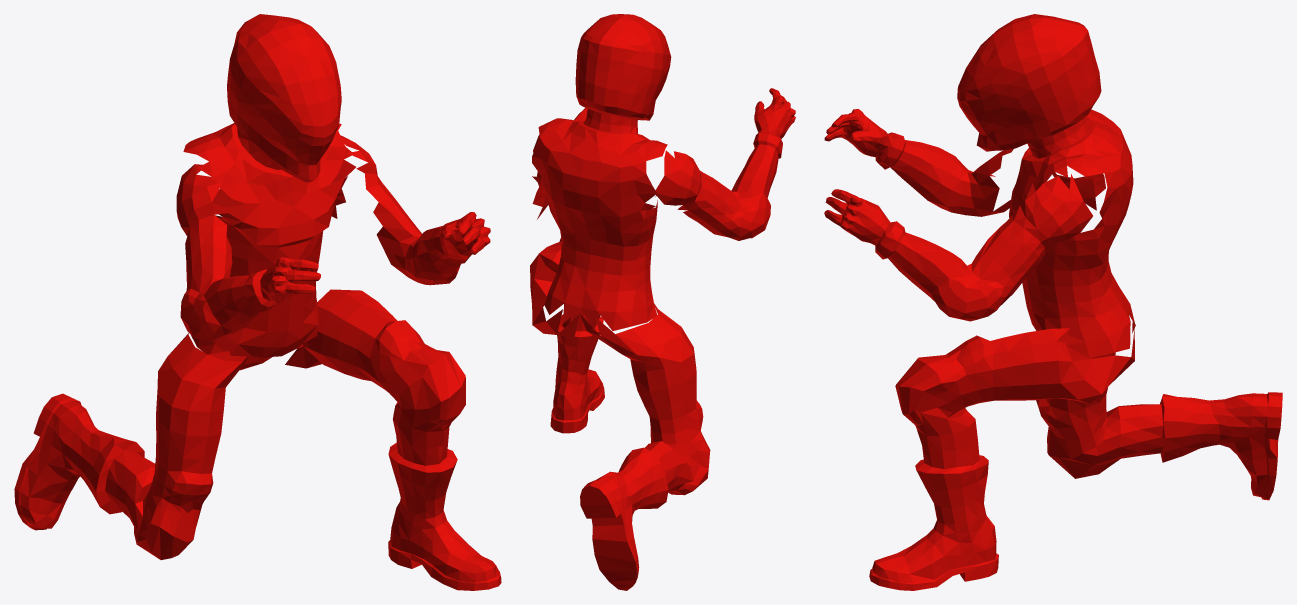
Rendered from kneel.glb.
3 renders of one model, left to right at view 1: azimuth 30°, elevation 25°; view 2: azimuth 150°, elevation 25°; view 3: azimuth 270°, elevation 25°, orthographic. The views are drawn at different scales.
Parts seen in each view (by area): view 1: body, arm_r, fore_r, fore_l, arm_l; view 2: body, arm_r, fore_r; view 3: body, arm_l, fore_l, fore_r, arm_r.
Boxes of the visible parts, <box> form: body: <box>14,14,501,590</box>; arm_r: <box>176,146,236,339</box>; fore_r: <box>159,257,320,471</box>; fore_l: <box>410,212,490,285</box>; arm_l: <box>336,135,423,284</box>; body: <box>530,14,710,590</box>; arm_r: <box>638,148,770,240</box>; fore_r: <box>686,88,795,408</box>; body: <box>869,14,1282,590</box>; arm_l: <box>946,174,1109,321</box>; fore_l: <box>824,189,1011,385</box>; fore_r: <box>824,109,960,212</box>; arm_r: <box>947,148,1013,216</box>.
Bounding box in the file's own units: 0.4369 × 0.8283 × 0.6405.
